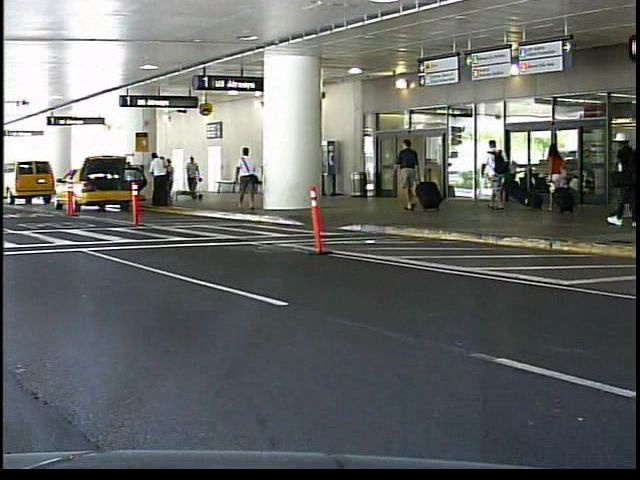person: (605, 125, 640, 237), (542, 134, 576, 222), (479, 134, 516, 214), (233, 142, 265, 215), (394, 137, 422, 216), (184, 154, 205, 202)
